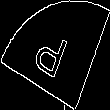P_SW: (34, 23, 76, 87)
